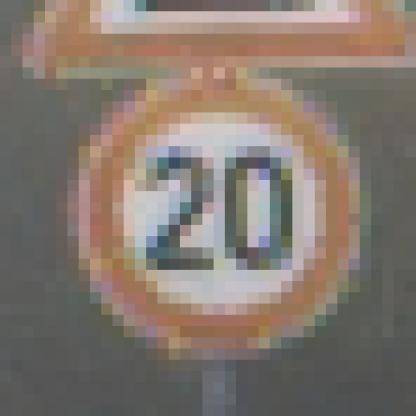Speed Limit 20: (86, 77, 355, 351)
